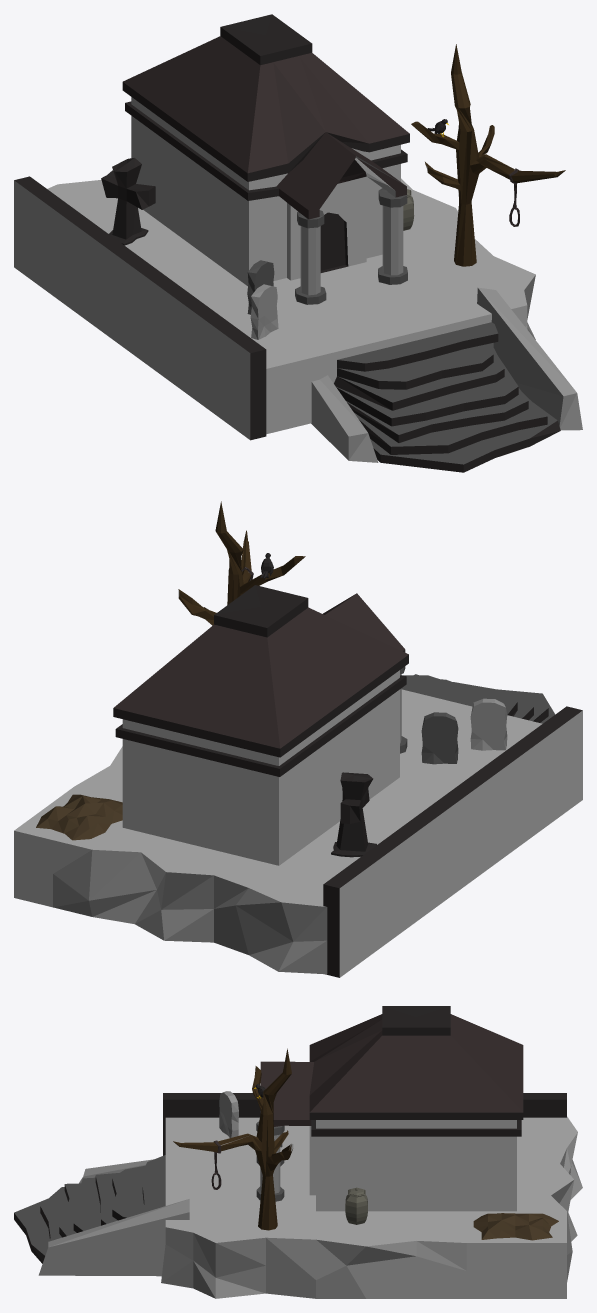
Rendered from mausoleum.fbx.
3 views of the same model, one above another, from view 1: azimuth 30°, elevation 25°; view 2: azimuth 150°, elevation 25°; view 3: azimuth 270°, elevation 25° (orthographic). The views are drawn at different scales.
Parts seen in each view (by area): view 1: pCube13; view 2: pCube13; view 3: pCube13.
Part boxes in pixels (left/top/right/bottom): pCube13: left=14, top=14, right=582, bottom=472; pCube13: left=14, top=501, right=582, bottom=977; pCube13: left=14, top=1006, right=582, bottom=1298.
Size of the model in its own units: 0.117 by 0.0951 by 0.2079.
